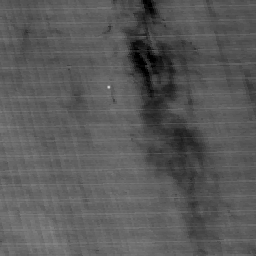Target: (105, 84, 113, 91)
